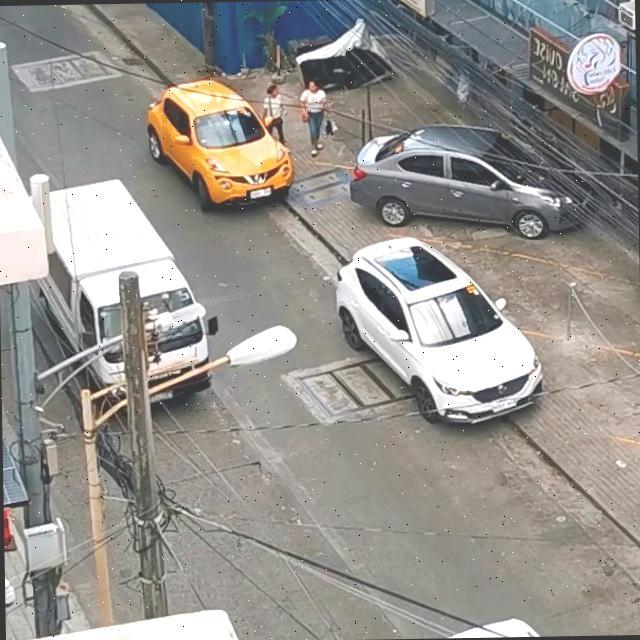Truck: (5, 165, 226, 422)
